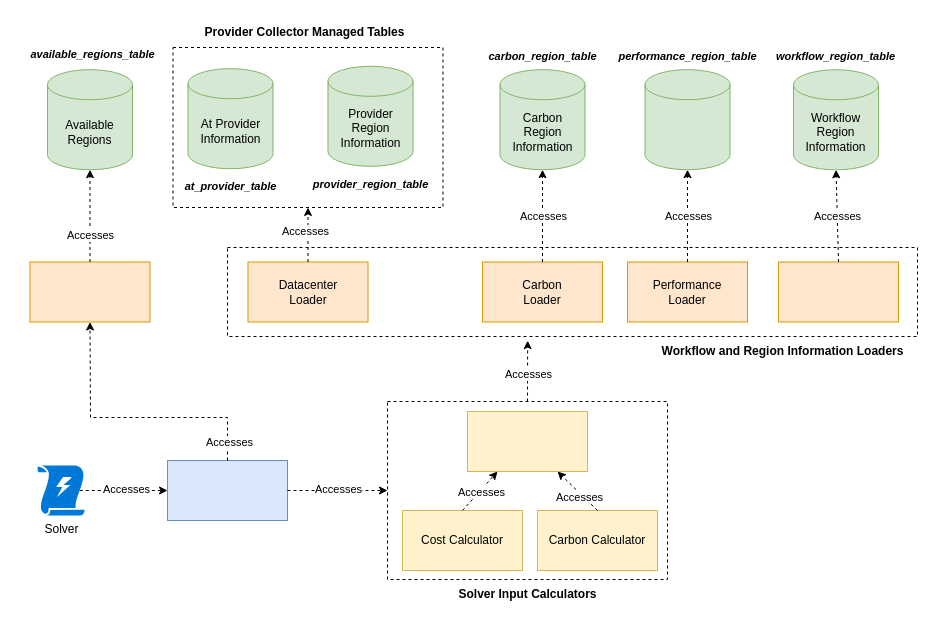
Some shapes in this 935 by 626 pixel diagram are drawn without their labels. The centre of each missing label's shape, as x and y in pixels:
"Input Manager" goes at [227,490].
"Performance Region Information" goes at [687,119].
"Region Viability Loader" goes at [89,291].
"Runtime Calculator" goes at [527,441].
"Workflow Loader" goes at [838,291].
